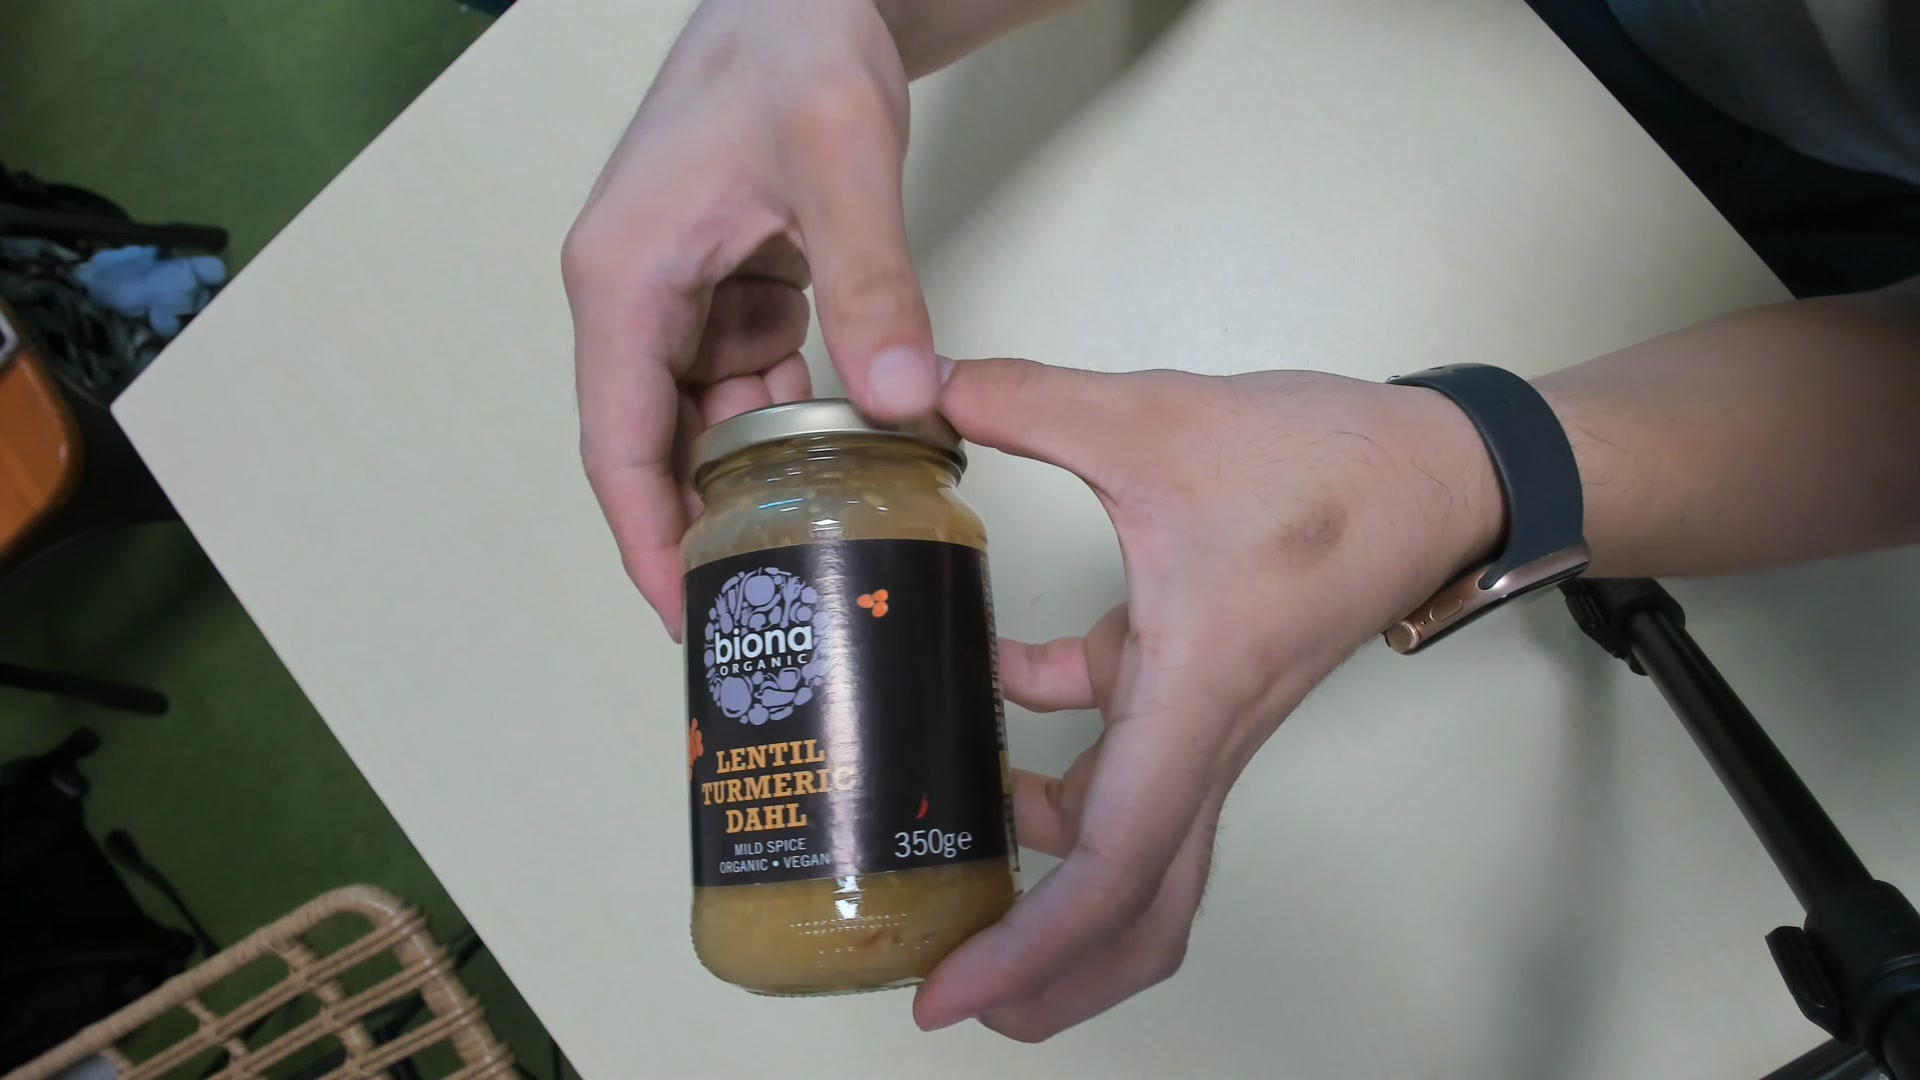OtherSauceDressing_300-399g_NonHalal_NonHealthy: (671, 401, 1029, 1009)
